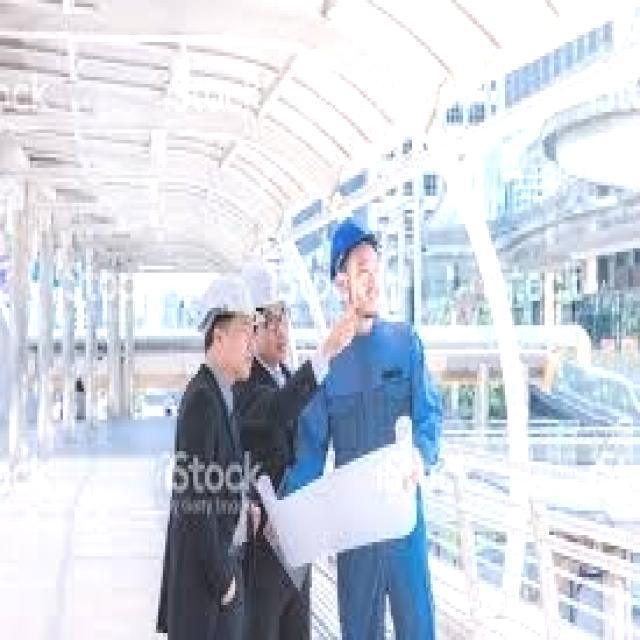no_vest: (323, 320, 449, 532), (163, 363, 261, 560)
